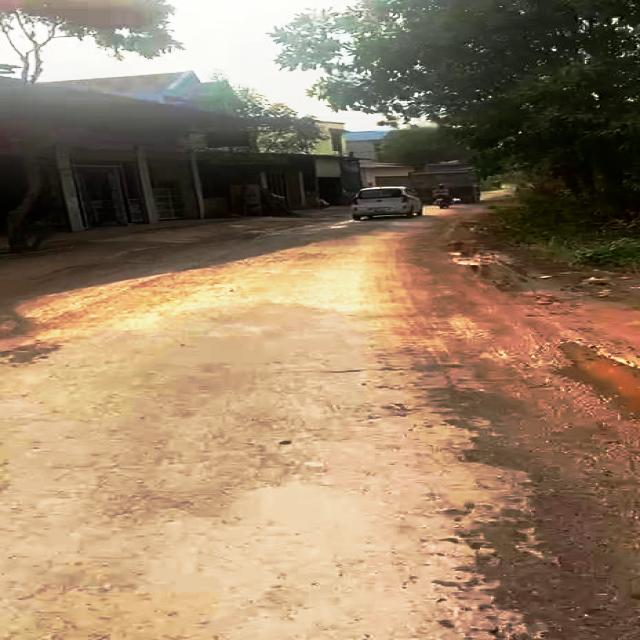pothole: (551, 340, 640, 418)
